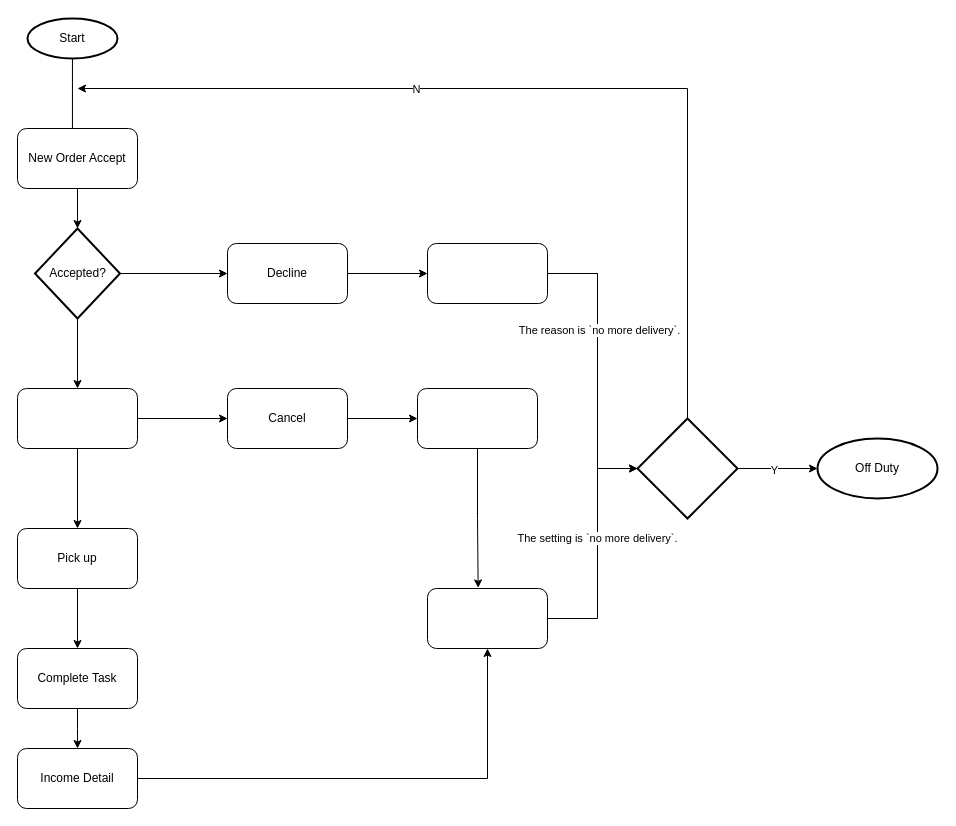
Some shapes in this 956 by 826 pixel diagram are drawn without their labels. Here are the shapes that lost their labels. From the top down, the centre of each, then its label:
the point at 487,273: Get Decline Reason
the point at 77,418: Arrive to Store
the point at 477,418: Get Cancel Reason
the point at 687,468: No More Delivery?
the point at 487,618: Get Off-duty Setting
